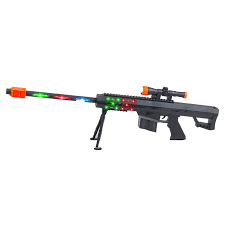Arma Falsa: (5, 80, 220, 155)
